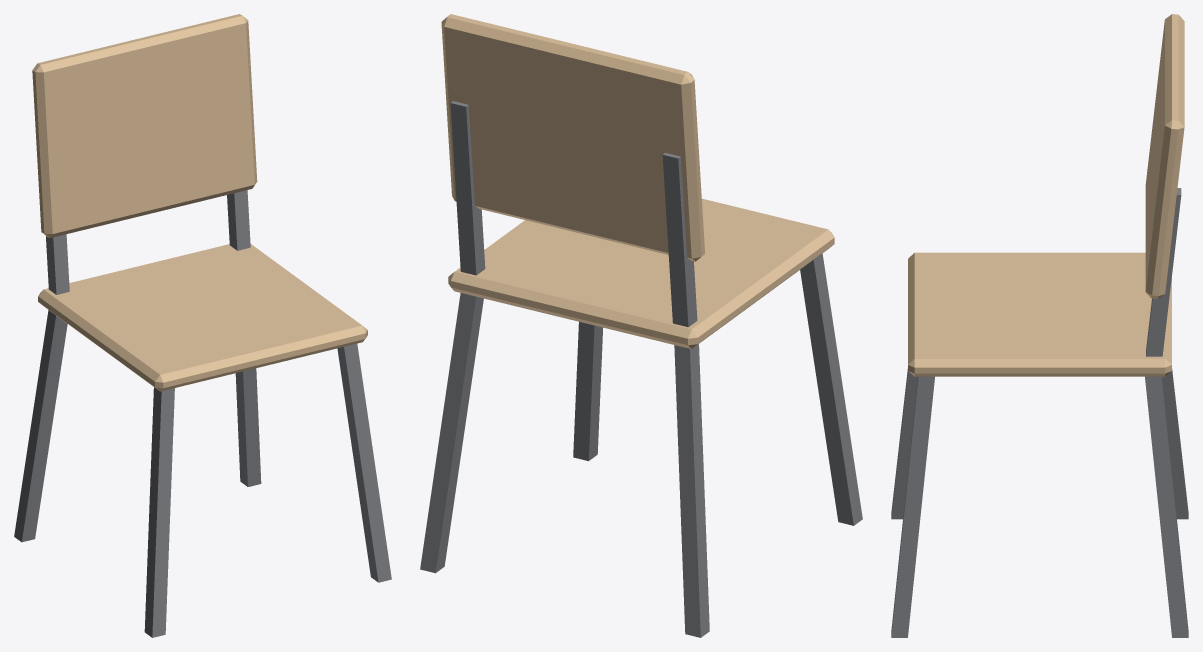
File: chair.glb
3 renders of one model, left to right at view 1: azimuth 30°, elevation 25°; view 2: azimuth 150°, elevation 25°; view 3: azimuth 270°, elevation 25°, orthographic. The views are drawn at different scales.
Parts seen in each view (by area): view 1: chair; view 2: chair; view 3: chair.
Part boxes in pixels (bbox=[...]): chair: bbox=[14, 14, 391, 637]; chair: bbox=[420, 14, 862, 637]; chair: bbox=[891, 14, 1188, 637].
Size of the model in its own units: 0.45 by 0.8489 by 0.45.
